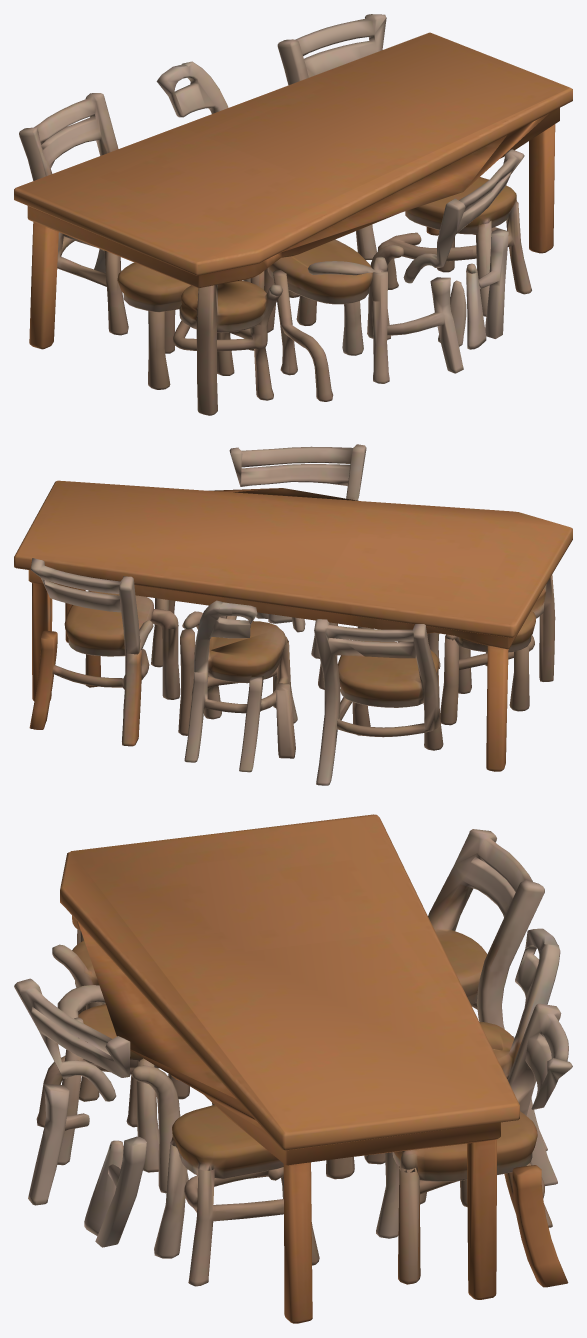
Rendered from break_room_table_09b9fd0d_v2.glb.
3 renders of one model, top to bottom at view 1: azimuth 30°, elevation 25°; view 2: azimuth 150°, elevation 25°; view 3: azimuth 270°, elevation 25°, orthographic. The views are drawn at different scales.
Visible parts, largest first — view 1: material; view 2: material; view 3: material.
Part boxes in pixels (bbox=[...]): material: bbox=[14, 14, 572, 415]; material: bbox=[14, 444, 572, 785]; material: bbox=[14, 814, 572, 1323].
Bounding box in the file's own units: 1.9 × 0.6151 × 1.4.
1 material, 1 textured.
